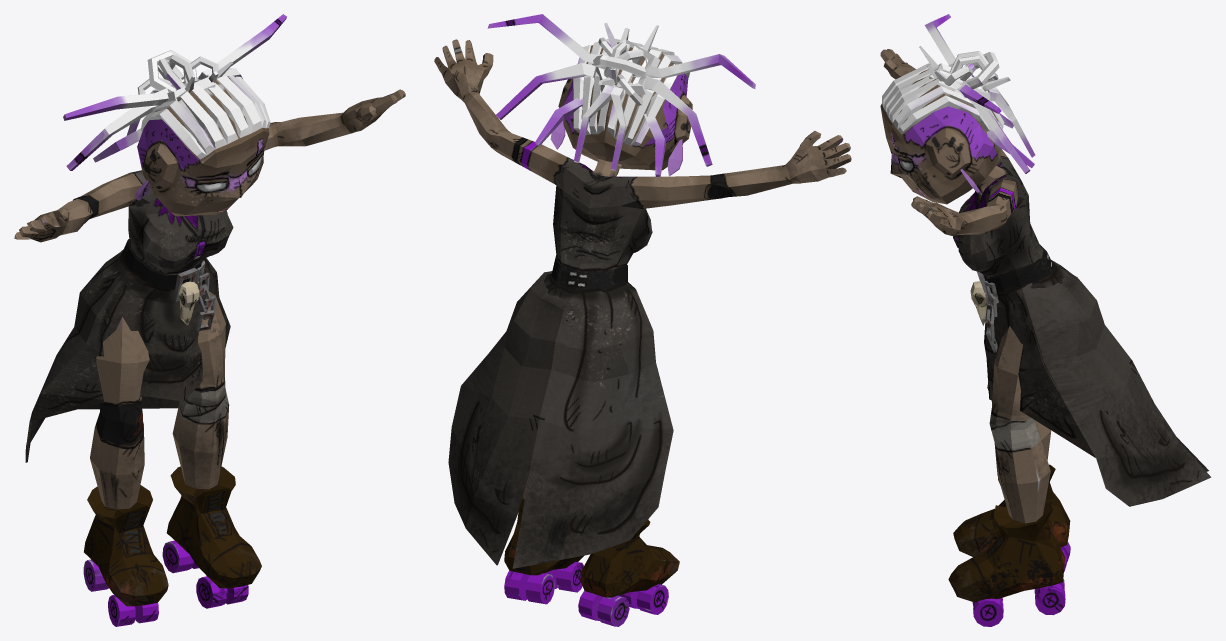
File: bruja_000087.obj
3 views of the same model, side by side, from view 1: azimuth 30°, elevation 25°; view 2: azimuth 150°, elevation 25°; view 3: azimuth 270°, elevation 25° (orthographic). The views are drawn at different scales.
Parts seen in each view (by area): view 1: Bruja_Plane.001; view 2: Bruja_Plane.001; view 3: Bruja_Plane.001.
Part boxes in pixels (x1,y1,x2,y2): Bruja_Plane.001: [14, 14, 405, 626]; Bruja_Plane.001: [434, 14, 851, 626]; Bruja_Plane.001: [880, 14, 1211, 626].
Bounding box in the file's own units: 11.94 × 16.24 × 8.89.
